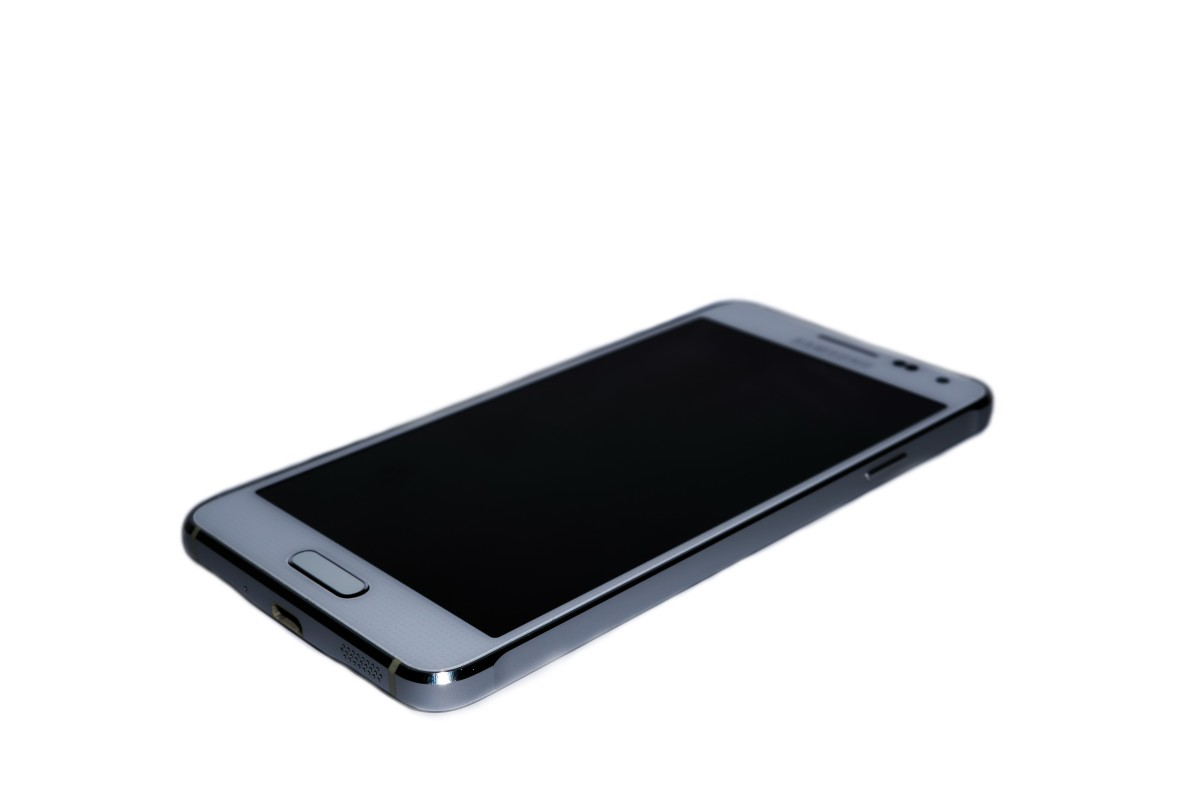Phone: (176, 293, 1000, 725)
